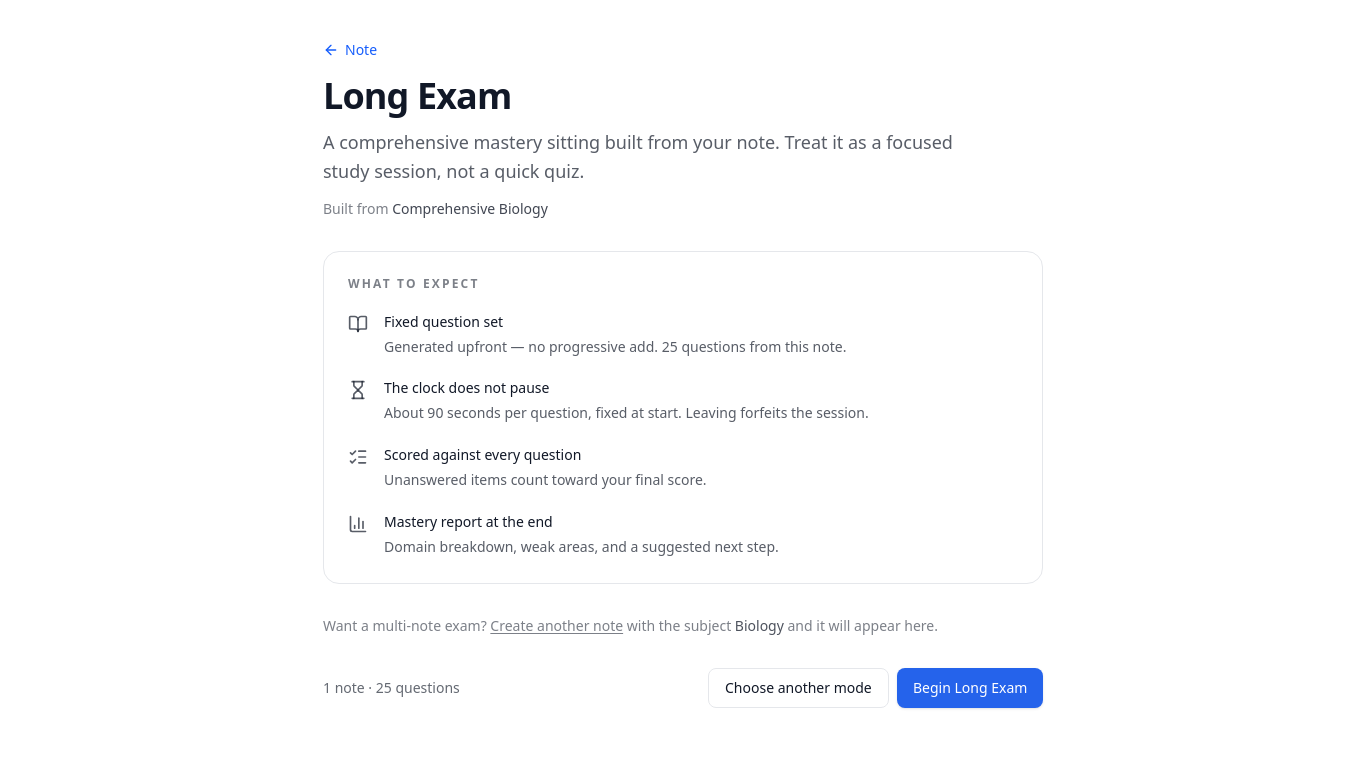
LongExamPage › gives the header back while submitting, because the Leave control is disabled then
Click the button "Begin Long Exam". click: (970,688)
box: x1=897 y1=668 x2=1043 y2=708
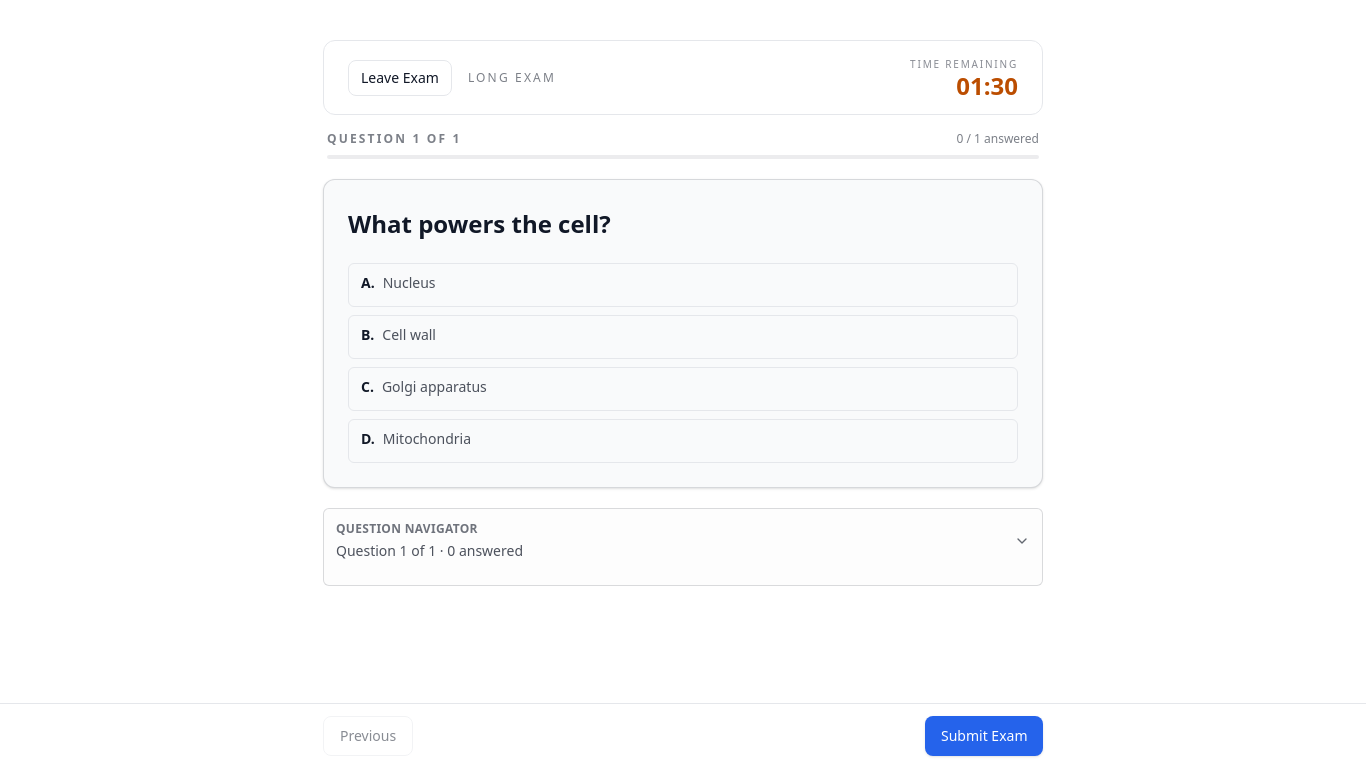
Click the button "D.Mitochondria". click: (427,438)
box: x1=348 y1=419 x2=1018 y2=463
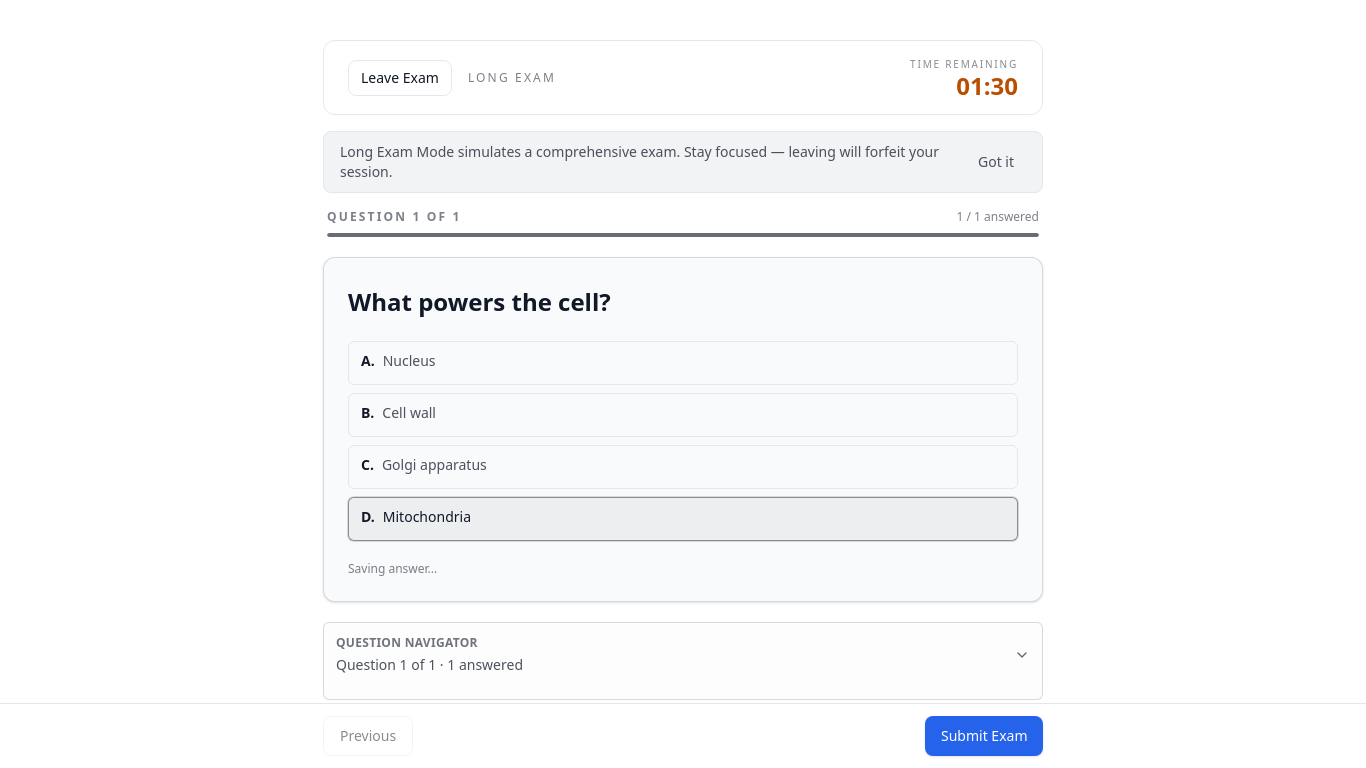
Click the button "Submit Exam". click: (984,736)
box: x1=924 y1=716 x2=1043 y2=756
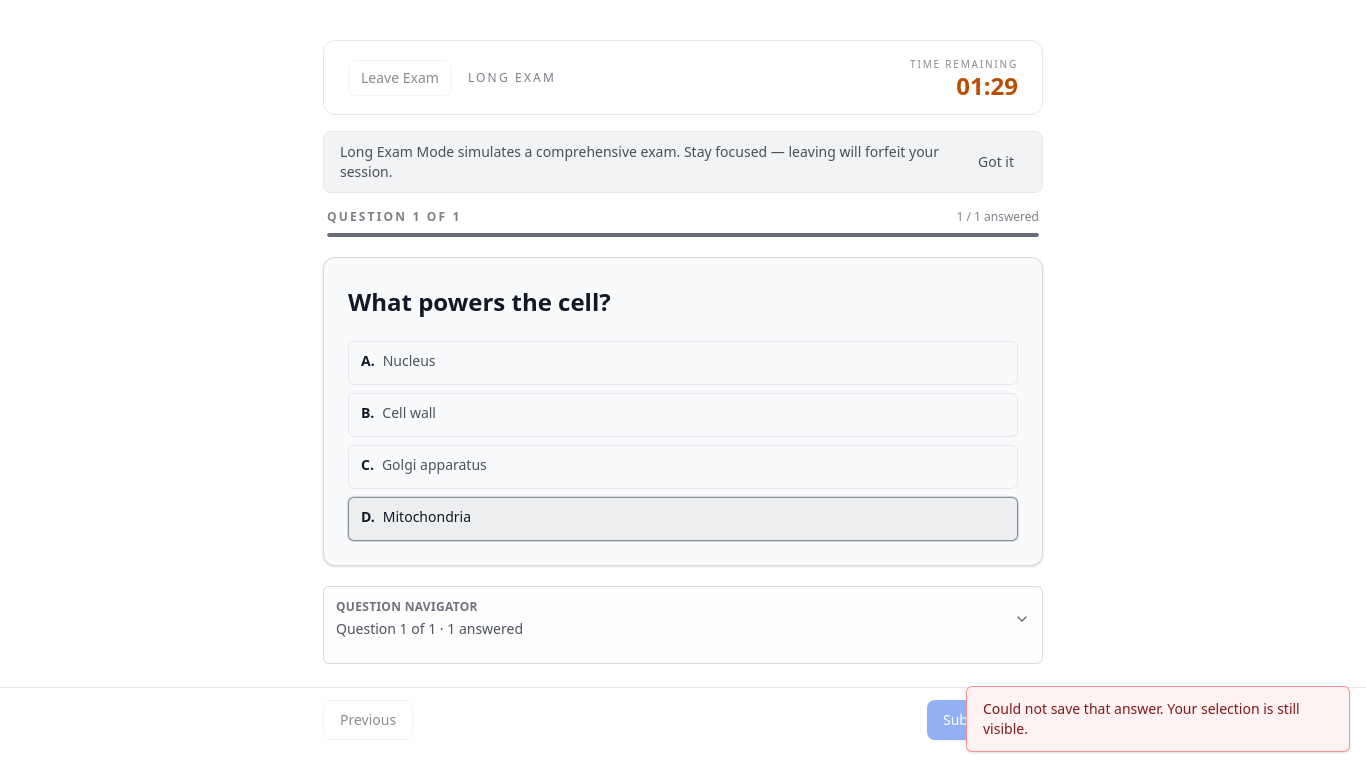
Expected: the button "Leave Exam" is disabled, x1=348 y1=60 x2=452 y2=96
